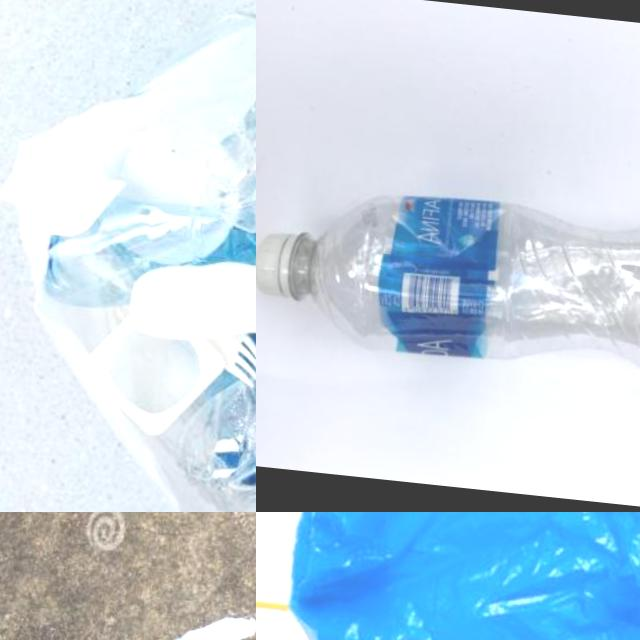garrafa plástica: (298, 176, 640, 391)
sacola plástica: (0, 0, 256, 512), (256, 512, 640, 640), (47, 585, 256, 640)
tampa plástica: (256, 230, 305, 300)
